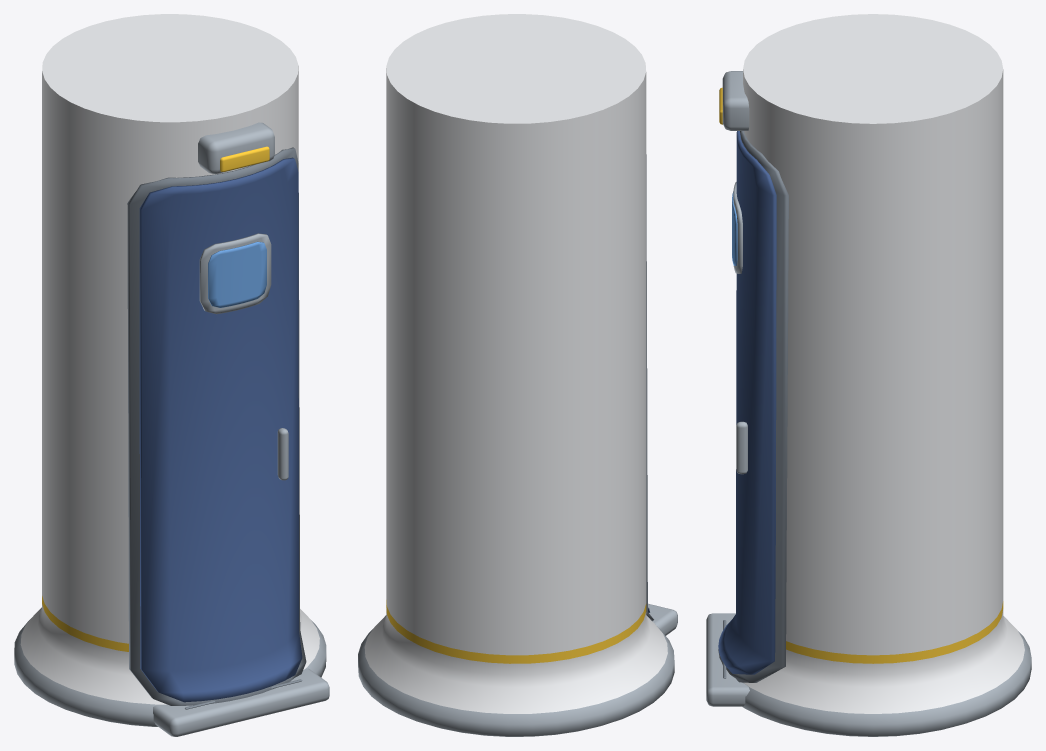
Rendered from frame-tower-base.glb.
3 renders of one model, left to right at view 1: azimuth 30°, elevation 25°; view 2: azimuth 150°, elevation 25°; view 3: azimuth 270°, elevation 25°, orthographic.
Parts seen in each view (by area): view 1: two_cell_white_tower_and_flared_flange, robot_height_navy_access_door, door_dark_recess_surround, steel_entry_step, small_blue_window, door_lamp_steel_hood, small_window_steel_frame, door_lamp_warm_diffuser, door_pull_handle; view 2: two_cell_white_tower_and_flared_flange, door_dark_recess_surround, steel_entry_step; view 3: two_cell_white_tower_and_flared_flange, robot_height_navy_access_door, door_dark_recess_surround, steel_entry_step, door_lamp_steel_hood, door_pull_handle.
Boxes of the visible parts, <box> form: two_cell_white_tower_and_flared_flange: <box>14,14,326,726</box>; robot_height_navy_access_door: <box>139,157,302,702</box>; door_dark_recess_surround: <box>127,147,306,705</box>; steel_entry_step: <box>153,668,329,736</box>; small_blue_window: <box>208,241,266,307</box>; door_lamp_steel_hood: <box>198,122,274,173</box>; small_window_steel_frame: <box>199,233,271,314</box>; door_lamp_warm_diffuser: <box>220,146,269,171</box>; door_pull_handle: <box>277,428,288,480</box>; two_cell_white_tower_and_flared_flange: <box>358,14,674,736</box>; door_dark_recess_surround: <box>646,154,653,621</box>; steel_entry_step: <box>648,603,677,635</box>; two_cell_white_tower_and_flared_flange: <box>742,14,1031,736</box>; robot_height_navy_access_door: <box>718,131,776,674</box>; door_dark_recess_surround: <box>718,131,788,682</box>; steel_entry_step: <box>706,613,749,706</box>; door_lamp_steel_hood: <box>722,71,749,130</box>; door_pull_handle: <box>736,421,747,474</box>.
Bounding box in the file's own units: 0.95 × 2 × 0.975.
